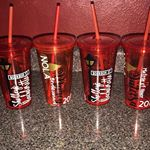cups: (30, 31, 78, 107), (76, 32, 122, 108), (1, 33, 31, 111), (121, 31, 150, 111)
